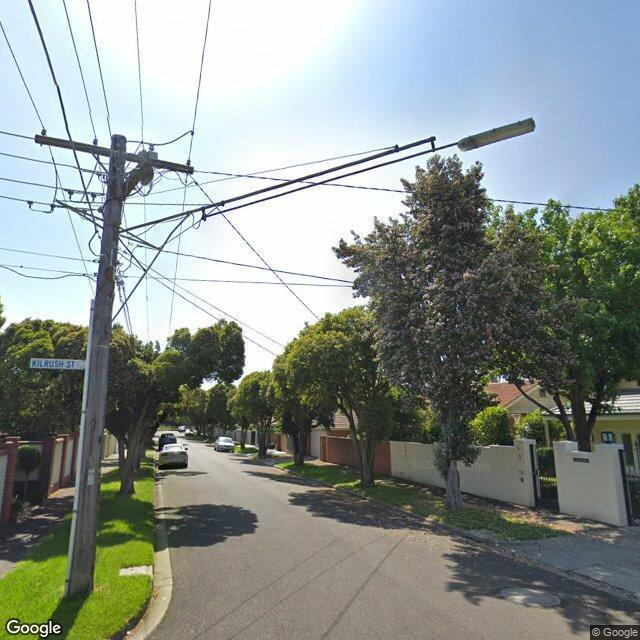crossarm: (35, 134, 193, 174), (99, 160, 152, 214)
streetlight: (117, 117, 537, 234)
timber-pole: (63, 135, 127, 598)
